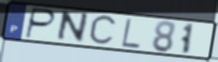1: (181, 22, 196, 56)
8: (151, 19, 177, 54)
C: (86, 14, 119, 48)
L: (120, 17, 142, 50)
N: (54, 10, 91, 45)
P: (24, 7, 58, 41)
